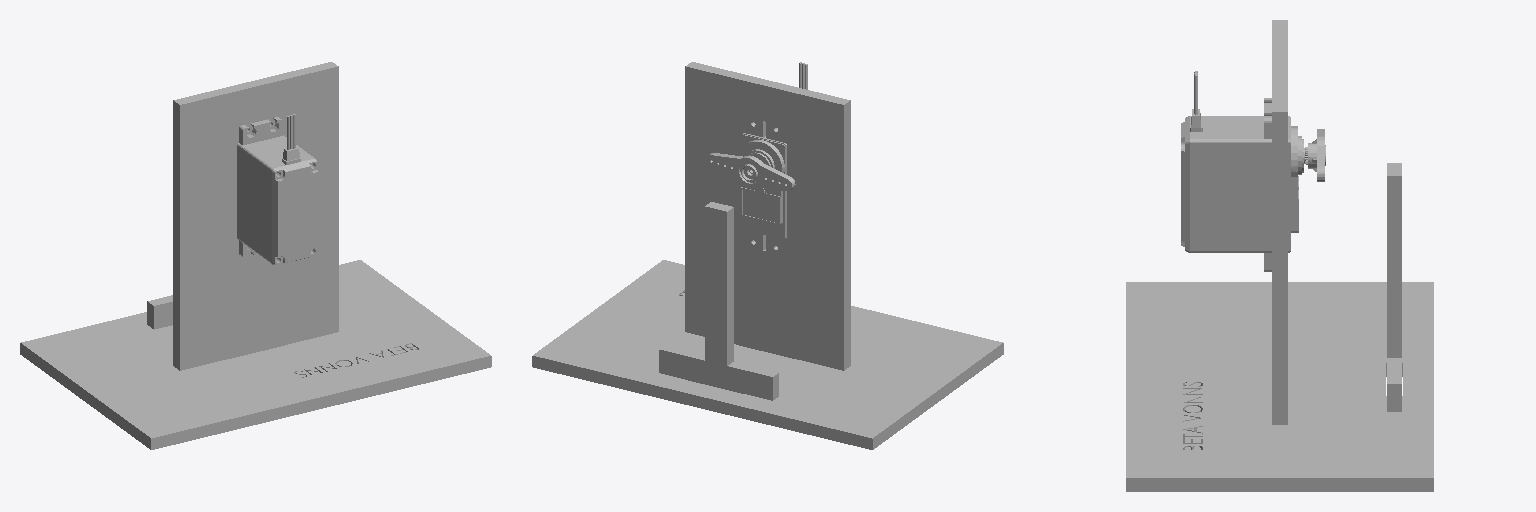
URDF robot description (beta_vonns_urdf):
<?xml version="1.0" encoding="utf-8"?>
<!-- This URDF was automatically created by SolidWorks to URDF Exporter! Originally created by [author] ([email redacted]) 
     Commit Version: 1.6.0-4-g7f85cfe  Build Version: 1.6.7995.38578
     For more information, please see http://wiki.ros.org/sw_urdf_exporter -->
<robot
  name="beta_vonns_urdf">
   
  <link 
    name="world"/>
       <joint name="fixed" type="fixed">
         <parent link="world"/>
         <child link="base_link"/>
           </joint>
     
  <link
    name="base_link">
    <inertial>
      <origin
        xyz="0.074829 0.065535 0.098884"
        rpy="0 0 0" />
      <mass
        value="0.15784" />
      <inertia
        ixx="0.00011413"
        ixy="2.5522E-09"
        ixz="1.6493E-07"
        iyy="0.00022363"
        iyz="3.5006E-08"
        izz="0.00020611" />
    </inertial>
    <visual>
      <origin
        xyz="0 0 0"
        rpy="0 0 0" />
      <geometry>
        <mesh
          filename="package://beta_vonns_urdf/meshes/base_link.STL" />
      </geometry>
      <material
        name="">
        <color
          rgba="0.75294 0.75294 0.75294 1" />
      </material>
    </visual>
    <collision>
      <origin
        xyz="0 0 0"
        rpy="0 0 0" />
      <geometry>
        <mesh
          filename="package://beta_vonns_urdf/meshes/base_link.STL" />
      </geometry>
    </collision>
  </link>
  <link
    name="link_1">
    <inertial>
      <origin
        xyz="3.6118E-05 0.030322 0.02442"
        rpy="0 0 0" />
      <mass
        value="0.22435" />
      <inertia
        ixx="0.00021629"
        ixy="-4.2837E-07"
        ixz="-5.9888E-07"
        iyy="0.00046096"
        iyz="-9.6023E-09"
        izz="0.00025405" />
    </inertial>
    <visual>
      <origin
        xyz="0 0 0"
        rpy="0 0 0" />
      <geometry>
        <mesh
          filename="package://beta_vonns_urdf/meshes/link_1.STL" />
      </geometry>
      <material
        name="">
        <color
          rgba="0.75294 0.75294 0.75294 1" />
      </material>
    </visual>
    <collision>
      <origin
        xyz="0 0 0"
        rpy="0 0 0" />
      <geometry>
        <mesh
          filename="package://beta_vonns_urdf/meshes/link_1.STL" />
      </geometry>
    </collision>
  </link>
  <joint
    name="joint_1"
    type="revolute">
    <origin
      xyz="0.074866 0 0.11468"
      rpy="1.5708 -0.066901 0" />
    <parent
      link="base_link" />
    <child
      link="link_1" />
    <axis
      xyz="0 0 1" />
    <limit
      lower="-1.57"
      upper="0"
      effort="1"
      velocity="100" />
  </joint>
</robot>

--- Facts derived from the render (not from the file) ---
Views: 3 orthographic renders of the robot side by side, from view 1: azimuth 30°, elevation 25°; view 2: azimuth 150°, elevation 25°; view 3: azimuth 270°, elevation 25°.
Model beta_vonns_urdf with 3 links and 2 joints (1 revolute, 1 fixed), rooted at world, posed every joint at zero.
Links seen in each view (by area): view 1: base_link; view 2: base_link; view 3: base_link.
Link boxes in pixels (x1,y1,x2,y2): base_link: (20, 62, 491, 449); base_link: (532, 62, 1003, 449); base_link: (1126, 20, 1433, 491).
Size in the robot's own frame: 0.15 by 0.1 by 0.117 metres.
1 mesh visuals loaded from 2 distinct referenced files (1 binary STL); not drawn: 1 (reference not matched to a file when rendering).
